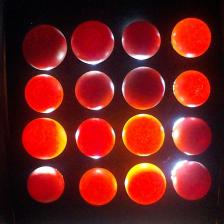fertile: (22, 24, 67, 71), (71, 20, 115, 65), (122, 66, 166, 110), (172, 160, 212, 201), (122, 20, 162, 60), (75, 70, 115, 110), (172, 116, 212, 155), (27, 166, 64, 203)
infertile: (21, 118, 67, 160), (124, 162, 167, 205), (122, 113, 164, 156), (171, 17, 212, 58), (76, 118, 116, 158), (24, 74, 64, 113), (79, 168, 119, 206), (172, 69, 210, 108)
